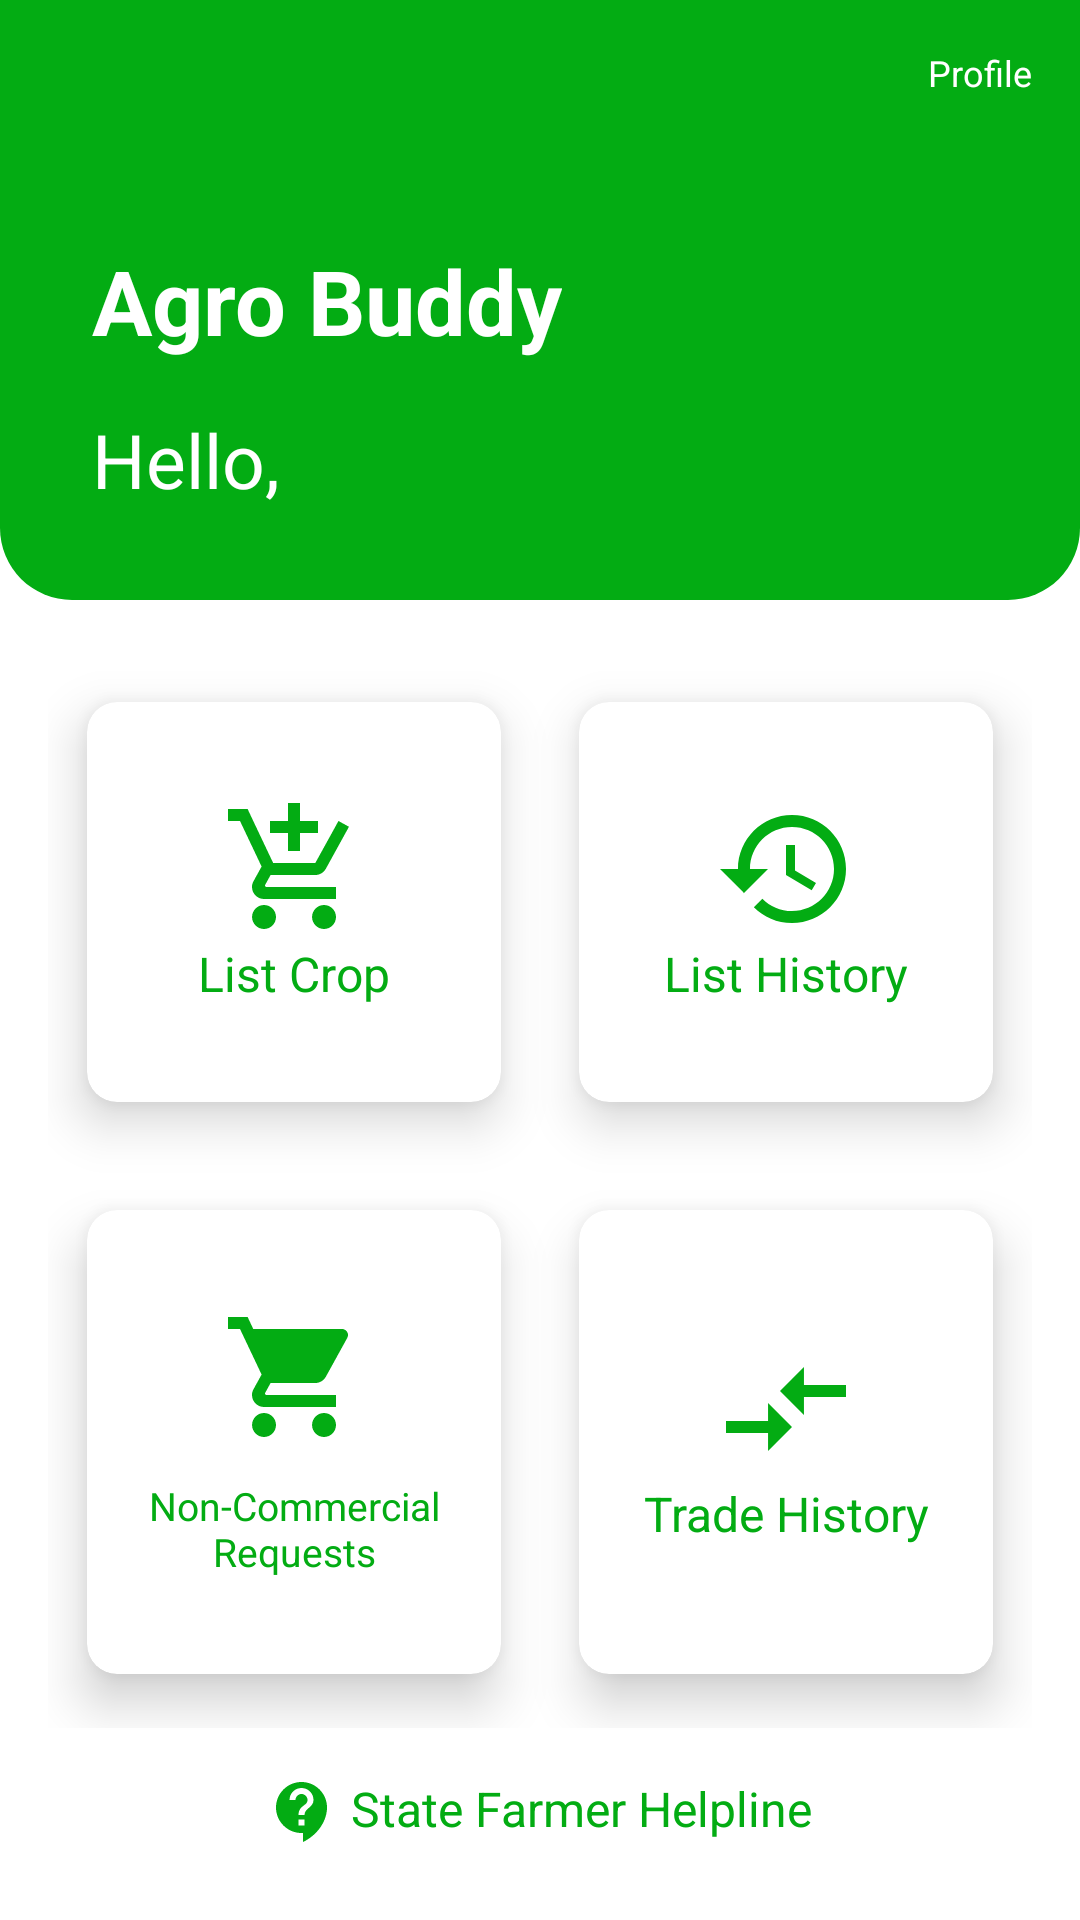

Icon bounding boxes for this 1080w x 1920h phone screenshot, format (x1, y1, x2, y2):
add shopping cart: (228, 803, 349, 929)
shopping cart: (228, 1317, 348, 1437)
